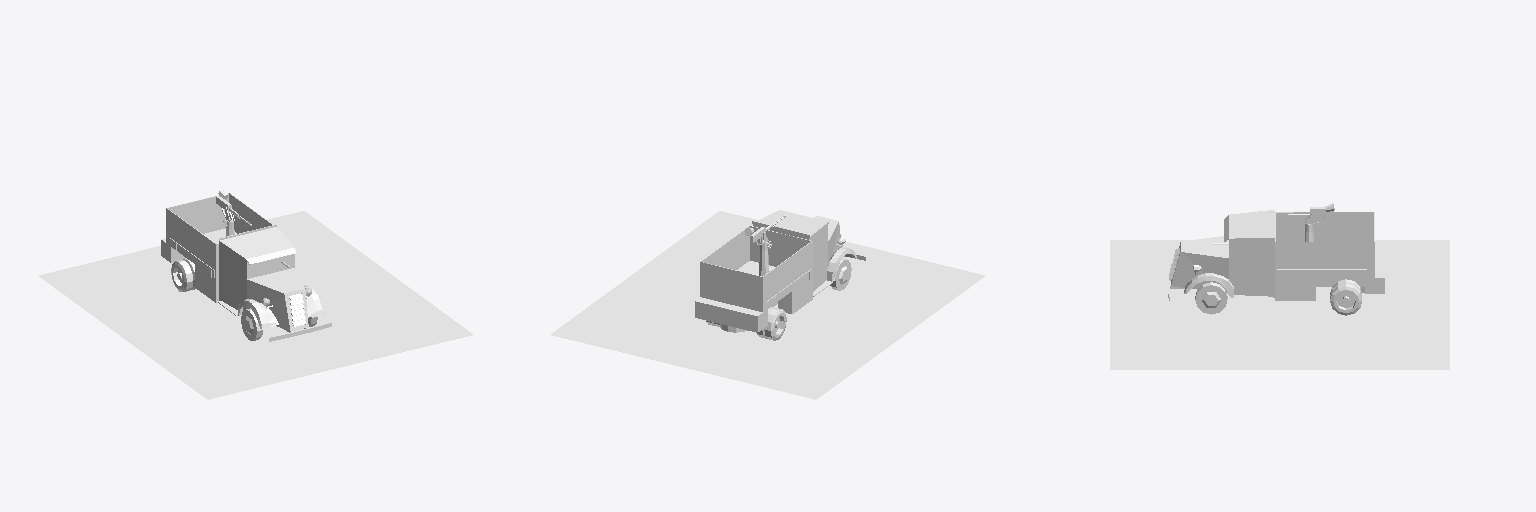
File: SWEPBilM31_export.obj
3 renders of one model, left to right at view 1: azimuth 30°, elevation 25°; view 2: azimuth 150°, elevation 25°; view 3: azimuth 270°, elevation 25°, orthographic.
Visible parts, largest first — view 1: g0; view 2: g0; view 3: g0.
Part boxes in pixels (left/top/right/bottom): g0: left=39, top=189, right=473, bottom=399; g0: left=550, top=210, right=984, bottom=399; g0: left=1110, top=203, right=1449, bottom=369.
Size of the model in its own units: 64.19 by 22.7 by 70.85.